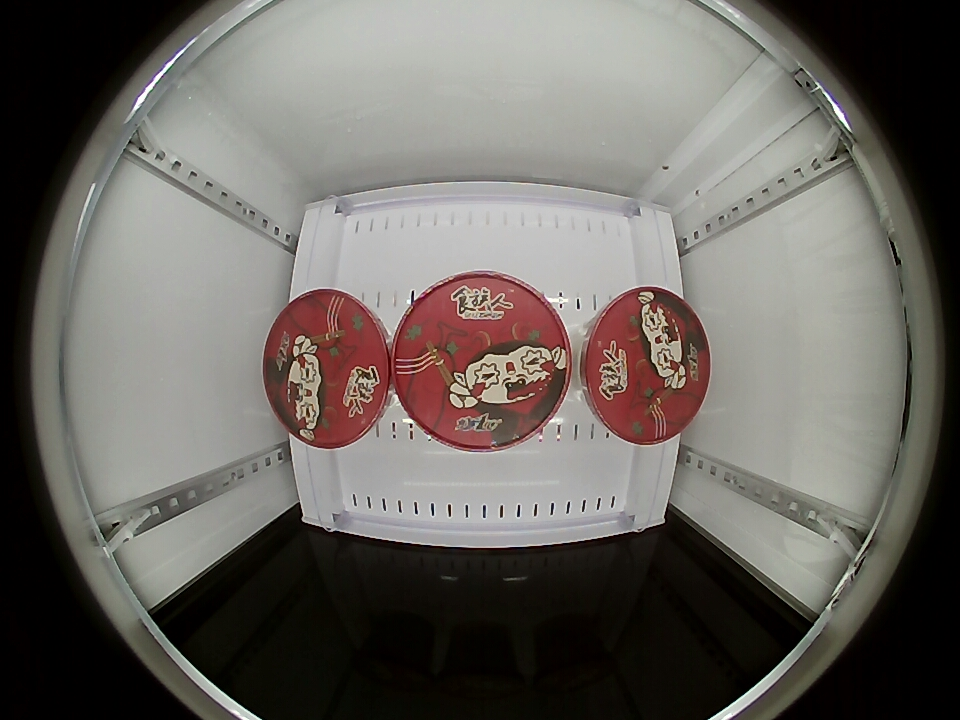suanlafen: (391, 273, 573, 451), (577, 286, 711, 445), (263, 289, 393, 449)
